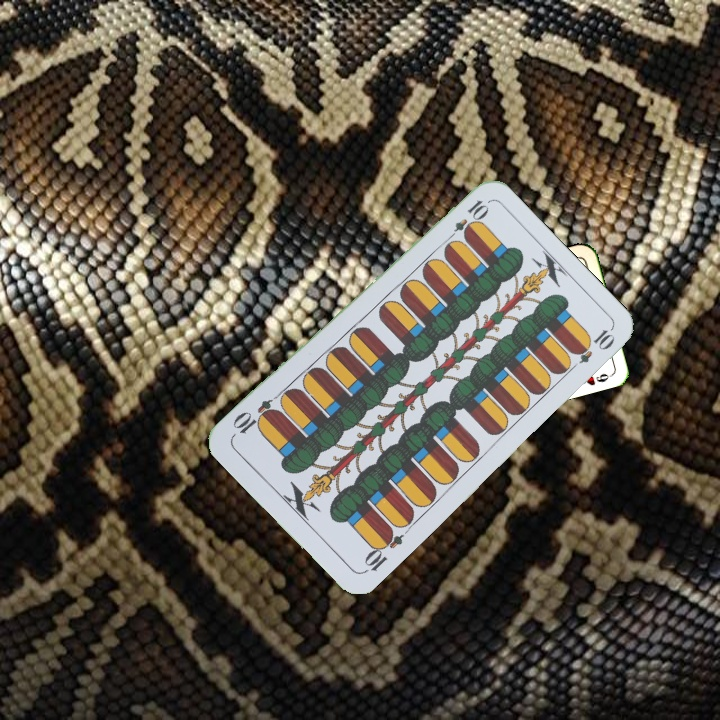E10: (442, 195, 491, 245), (359, 524, 406, 576)
